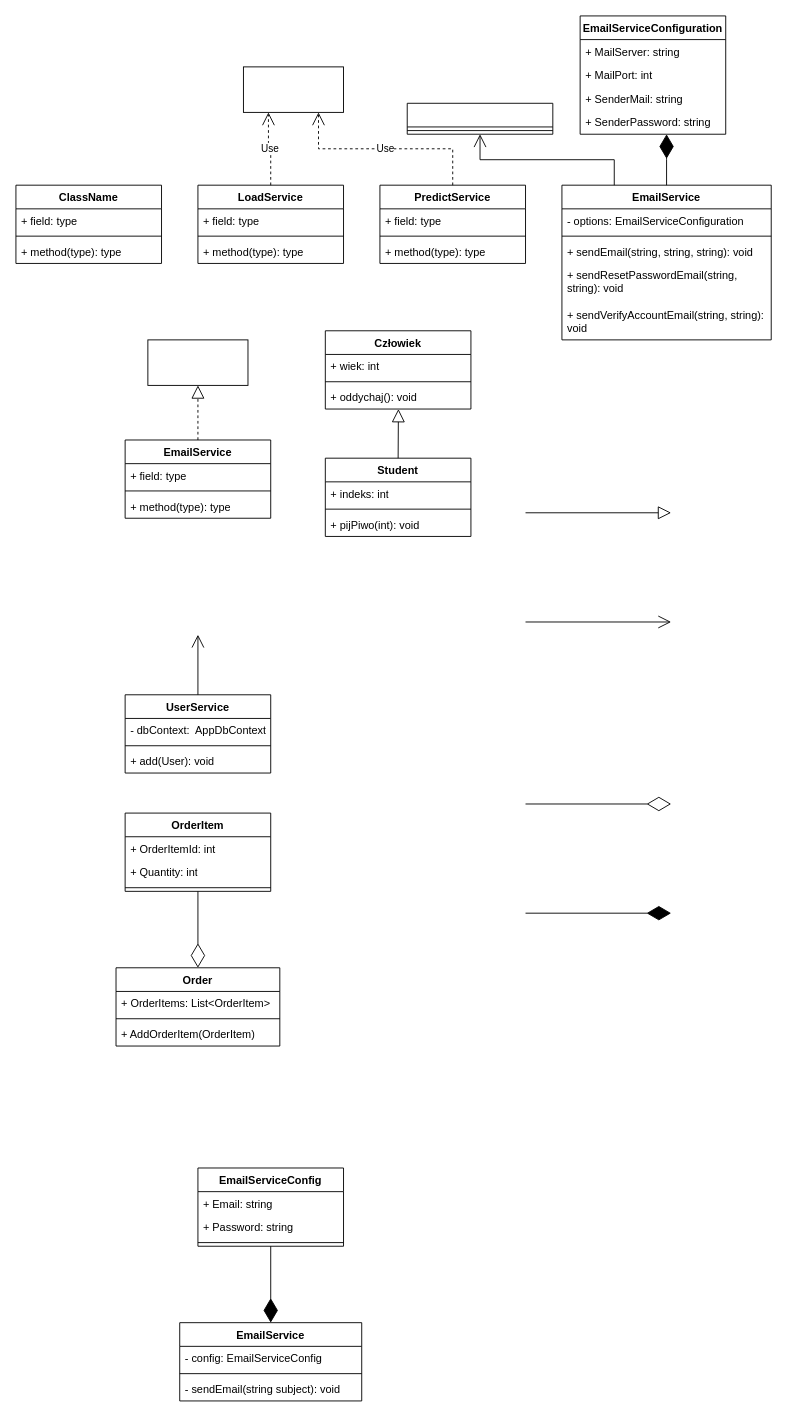
Image size: 787x1420. Some labels were removed from this diagram. Here are the shapes that lost their labels. From the top down, the centre of each, then its label:
At (x=293, y=89): "«interface» IDbContextFactory".
At (x=479, y=118): "SmtpClient".
At (x=197, y=362): "«interface» IEmailService".
